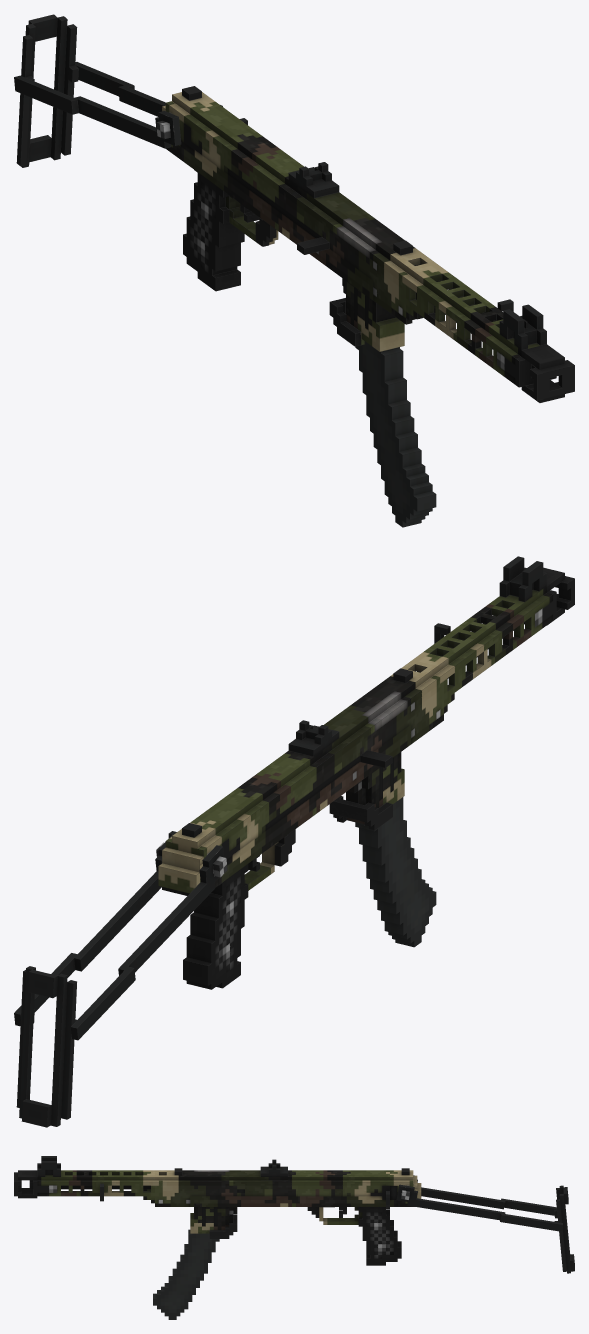
The model's file is RD_PPS43_MILITARY1945.glb.
The picture shows the model from 3 angles, top to bottom: view 1: azimuth 30°, elevation 25°; view 2: azimuth 150°, elevation 25°; view 3: azimuth 270°, elevation 25°; orthographic projection. The views are drawn at different scales.
Parts seen in each view (by area): view 1: PPS43, PPS43_CLIP, PPS43_BUTT_STOCK_P2, PPS43_BUTT_STOCK_P1; view 2: PPS43, PPS43_BUTT_STOCK_P1, PPS43_CLIP, PPS43_BUTT_STOCK_P2; view 3: PPS43, PPS43_BUTT_STOCK_P1, PPS43_CLIP, PPS43_BUTT_STOCK_P2.
Boxes of the visible parts, box(x1,y1,x2,y2) form: PPS43: box(162, 86, 574, 402); PPS43_CLIP: box(355, 341, 436, 527); PPS43_BUTT_STOCK_P2: box(16, 14, 78, 167); PPS43_BUTT_STOCK_P1: box(14, 62, 222, 148); PPS43: box(158, 556, 574, 989); PPS43_BUTT_STOCK_P1: box(14, 834, 227, 1040); PPS43_CLIP: box(355, 797, 436, 947); PPS43_BUTT_STOCK_P2: box(16, 966, 76, 1127); PPS43: box(14, 1156, 421, 1265); PPS43_BUTT_STOCK_P1: box(396, 1175, 562, 1231); PPS43_CLIP: box(153, 1229, 219, 1319); PPS43_BUTT_STOCK_P2: box(554, 1185, 574, 1273).
Size of the model in its own units: 0.128 by 0.438 by 1.41.
Materials: 1 (1 with a texture image).
